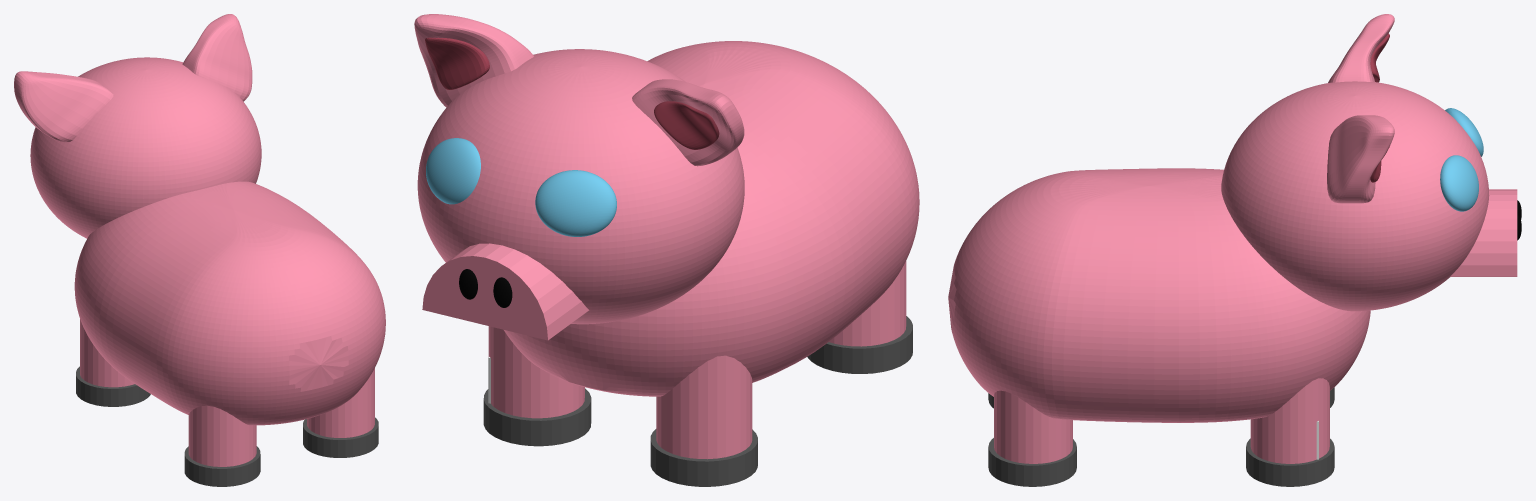
The model's file is cerdo.glb.
The picture shows the model from 3 angles, left to right: view 1: azimuth 30°, elevation 25°; view 2: azimuth 150°, elevation 25°; view 3: azimuth 270°, elevation 25°; orthographic projection. The views are drawn at different scales.
Parts seen in each view (by area): view 1: Esfera.003_0; view 2: Esfera.003_0; view 3: Esfera.003_0.
Part boxes in pixels (<box>): Esfera.003_0: <box>14,14,385,486</box>; Esfera.003_0: <box>414,14,919,486</box>; Esfera.003_0: <box>948,14,1521,486</box>.
Size of the model in its own units: 0.056 by 0.07 by 0.1.
